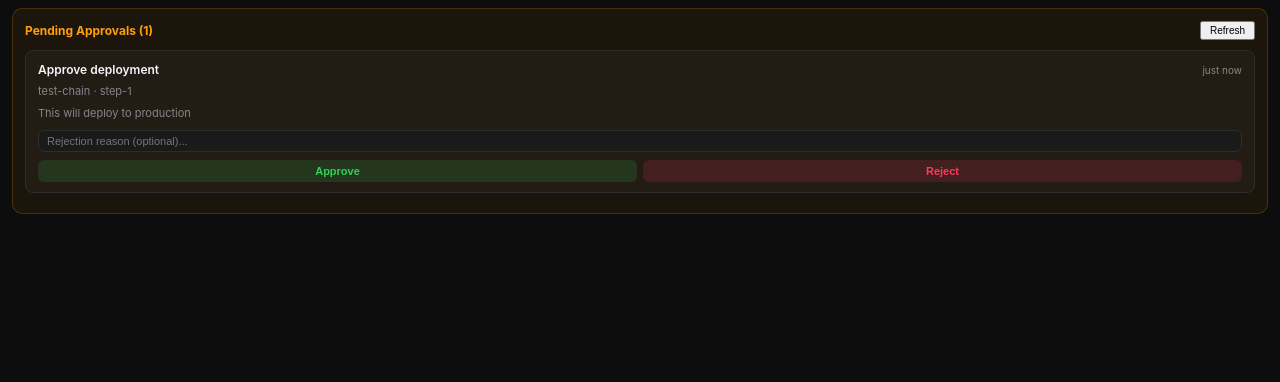
Test: GateApprovalPanel › shows Refresh button that re-fetches approvals
Click the button "Refresh" at (1228, 30), box [1200,21,1255,40]
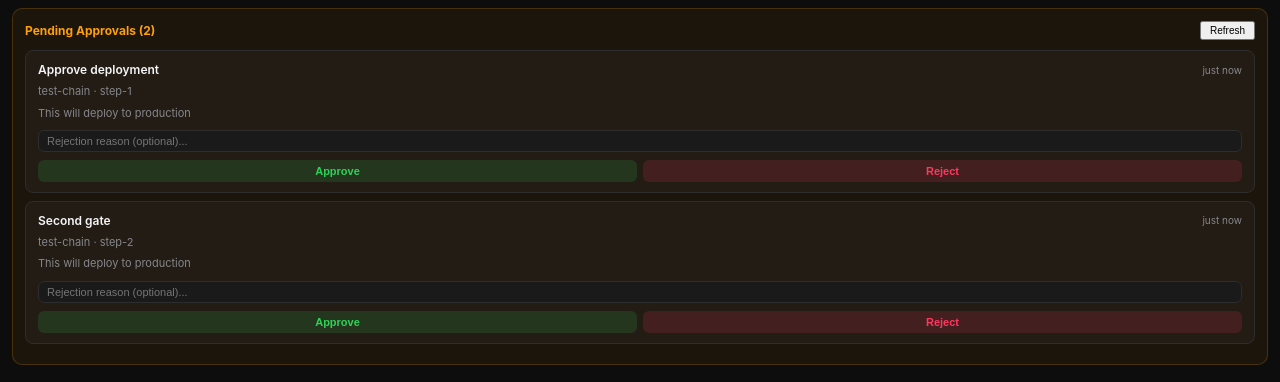
Result: the text "Pending Approvals (2)" is shown at [25,22,155,40]
